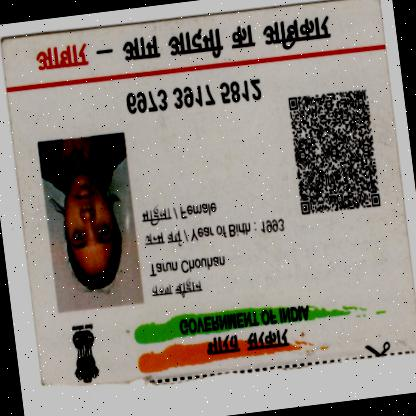aadhaar_card: (0, 0, 415, 414)
